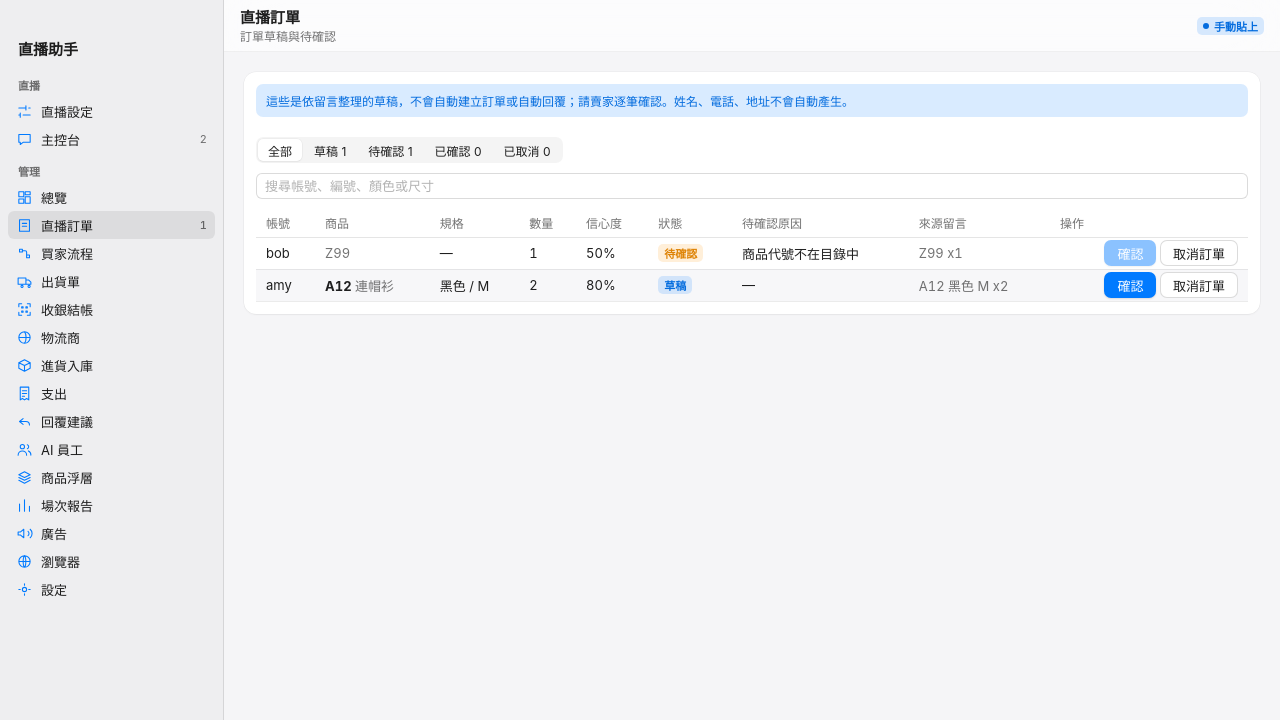
it: Orders page › shows drafts with reasons, confirms only clean ones, and updates the console counts
This screenshot has width=1280, height=720.
Expected: the text "商品代號不在目錄中" is shown, [732, 237, 909, 269]
Expected: the button "確認" in the row of "bob" is disabled, [1104, 240, 1156, 266]
Click the button "確認" in the row of "amy" at [1130, 285], box [1104, 272, 1156, 298]
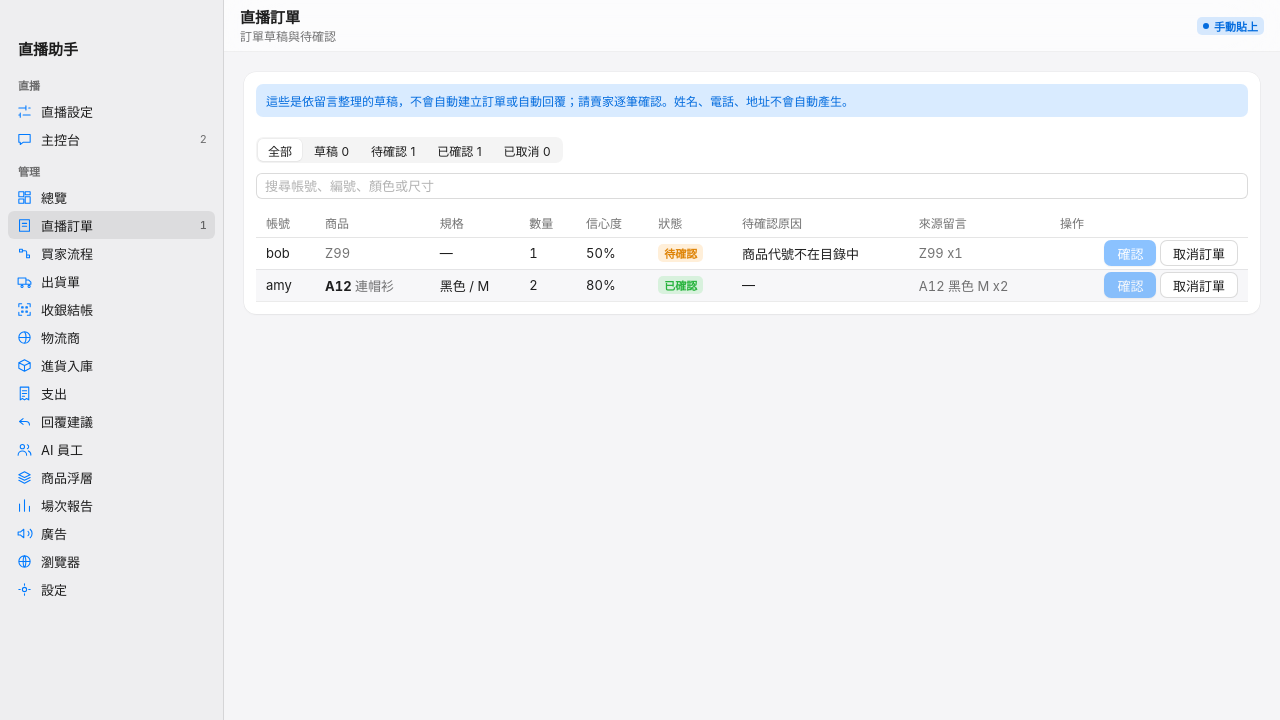
Now the text "已確認" is shown, box [658, 276, 703, 294]
Now the button "確認" in the row of "amy" is disabled, box [1104, 272, 1156, 298]
